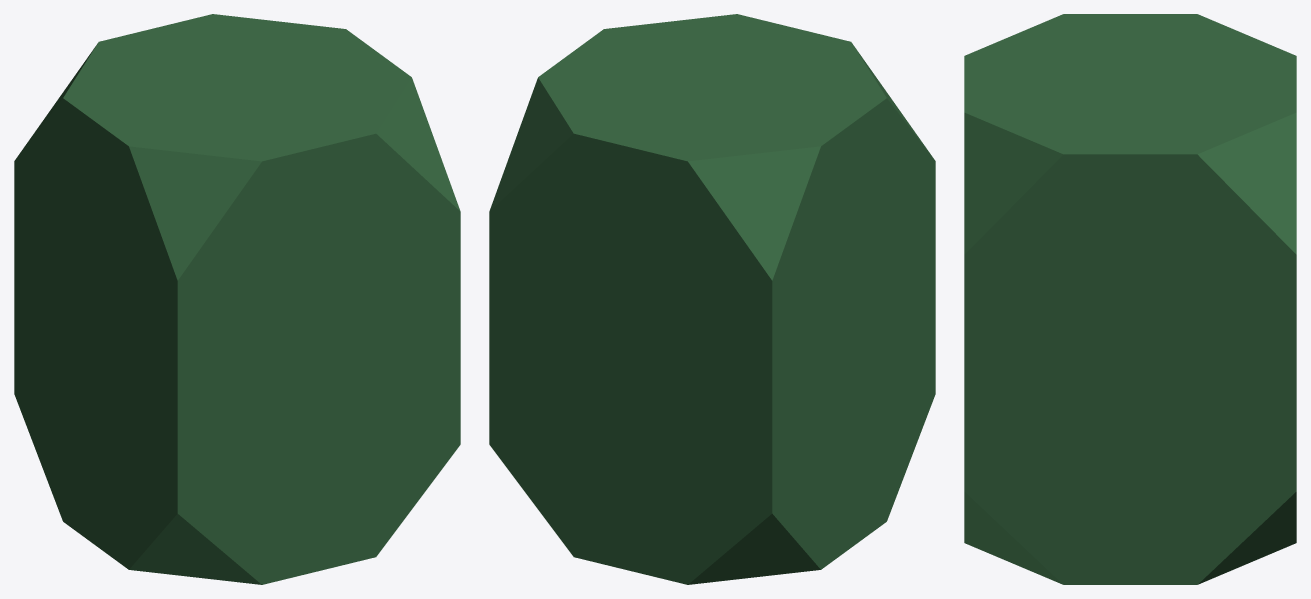
File: SimpleBushC.glb
The picture shows the model from 3 angles, left to right: view 1: azimuth 30°, elevation 25°; view 2: azimuth 150°, elevation 25°; view 3: azimuth 270°, elevation 25°; orthographic projection.
Parts seen in each view (by area): view 1: Cube; view 2: Cube; view 3: Cube.
Part boxes in pixels (left/top/right/bottom): Cube: left=14, top=14, right=460, bottom=584; Cube: left=489, top=14, right=935, bottom=584; Cube: left=964, top=14, right=1296, bottom=584.
Size of the model in its own units: 1.27 by 1.81 by 1.27.
